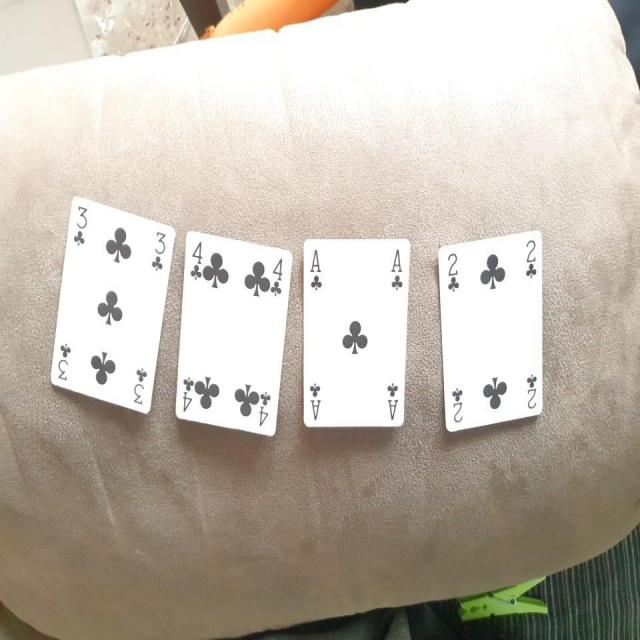2 Trefoils: (438, 229, 547, 434)
3 Trefoils: (50, 197, 175, 416)
4 Trefoils: (175, 231, 292, 438)
A Trefoils: (302, 236, 411, 433)
